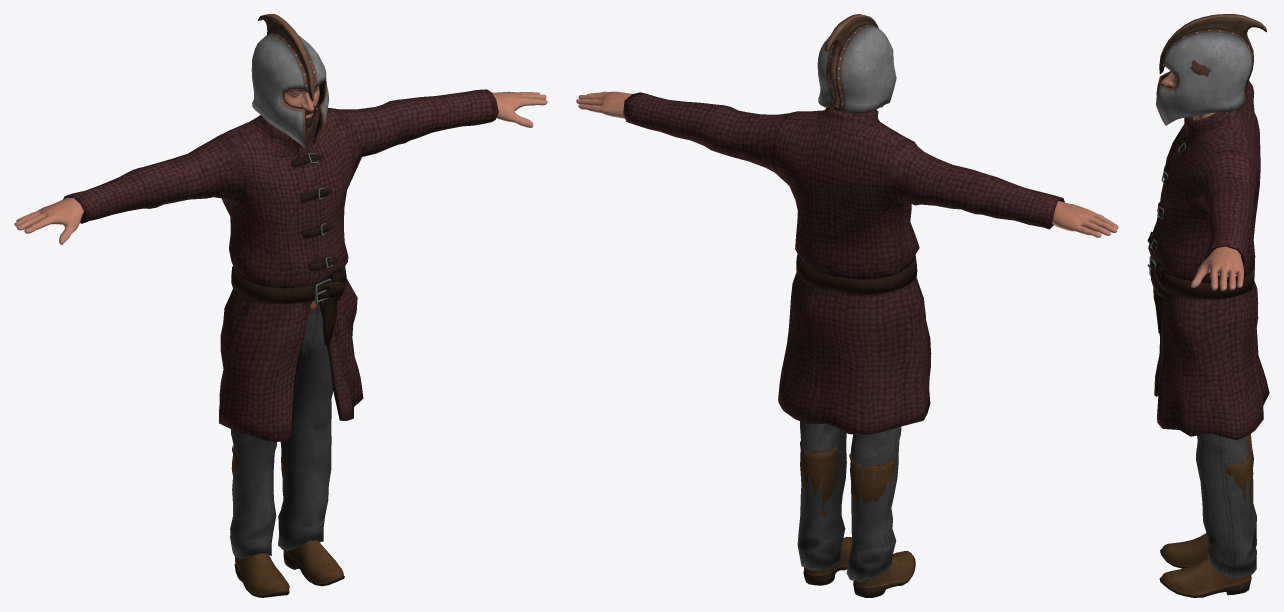
3 views of the same model, side by side, from view 1: azimuth 30°, elevation 25°; view 2: azimuth 150°, elevation 25°; view 3: azimuth 270°, elevation 25° (orthographic).
Parts seen in each view (by area): view 1: Tops, Bottoms, Hats, Shoes, Body; view 2: Tops, Bottoms, Hats, Shoes, Body; view 3: Tops, Hats, Bottoms, Shoes, Body, Hair.
Boxes of the visible parts, left/top/right/bottom form: Tops: left=63, top=89, right=498, bottom=441; Bottoms: left=230, top=300, right=333, bottom=559; Hats: left=251, top=14, right=329, bottom=148; Shoes: left=231, top=441, right=344, bottom=597; Body: left=14, top=86, right=547, bottom=244; Tops: left=623, top=92, right=1064, bottom=434; Bottoms: left=797, top=421, right=901, bottom=582; Hats: left=817, top=14, right=896, bottom=113; Shoes: left=800, top=441, right=915, bottom=597; Body: left=576, top=91, right=1118, bottom=237; Tops: left=1147, top=80, right=1269, bottom=440; Hats: left=1156, top=14, right=1266, bottom=125; Bottoms: left=1166, top=297, right=1256, bottom=577; Shoes: left=1159, top=434, right=1253, bottom=597; Body: left=1160, top=72, right=1243, bottom=290; Hair: left=1190, top=60, right=1211, bottom=76.
Bounding box in the file's own units: 192 × 192 × 37.74.
8 materials, 8 textured.
